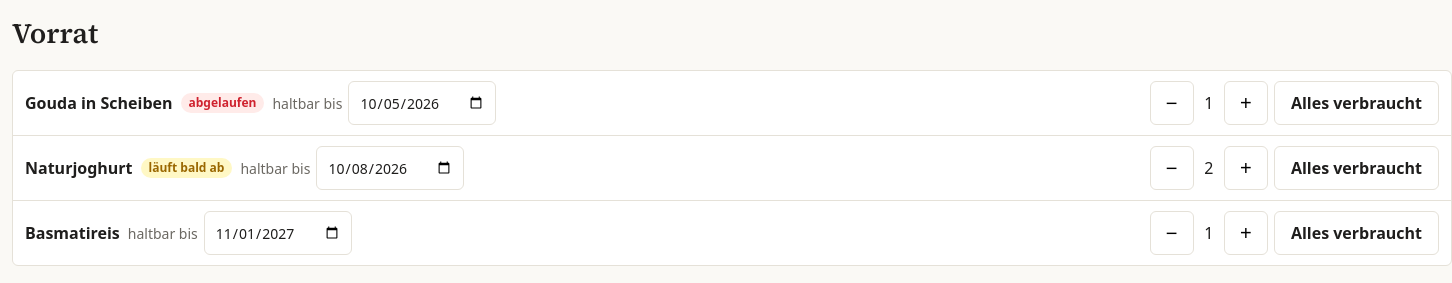
Test: PantryView › entfernt einen aufgebrauchten Eintrag
Click the button "Alles verbraucht" in the row of "Gouda in Scheiben" at (1356, 103), box x1=1274 y1=81 x2=1439 y2=125
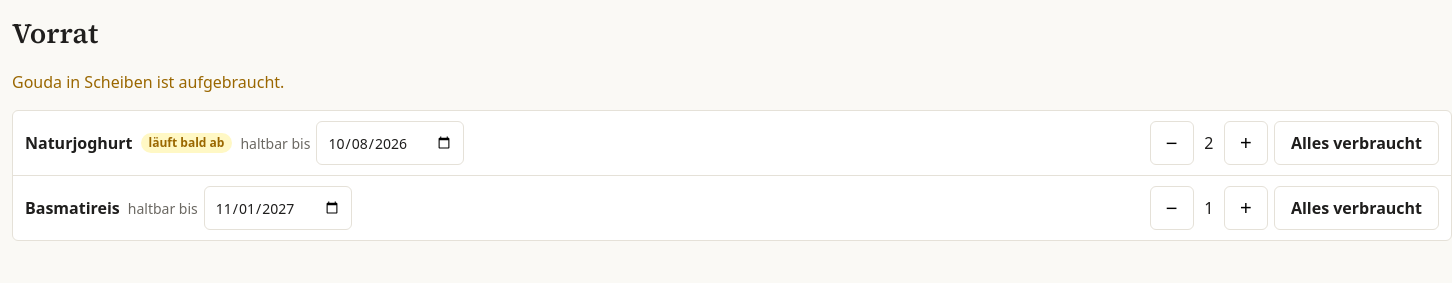
Expected: the number of list items is 2, x1=13 y1=111 x2=1451 y2=176; x1=13 y1=176 x2=1451 y2=240
Expected: the text "Gouda in Scheiben ist aufgebraucht." is shown, x1=12 y1=71 x2=284 y2=93
